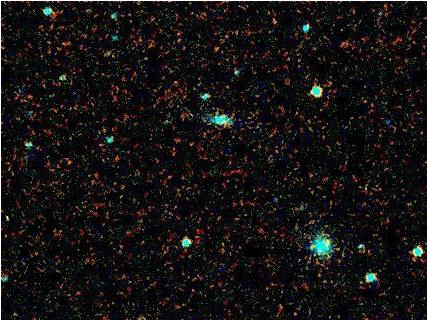star: (178, 101, 208, 131)
